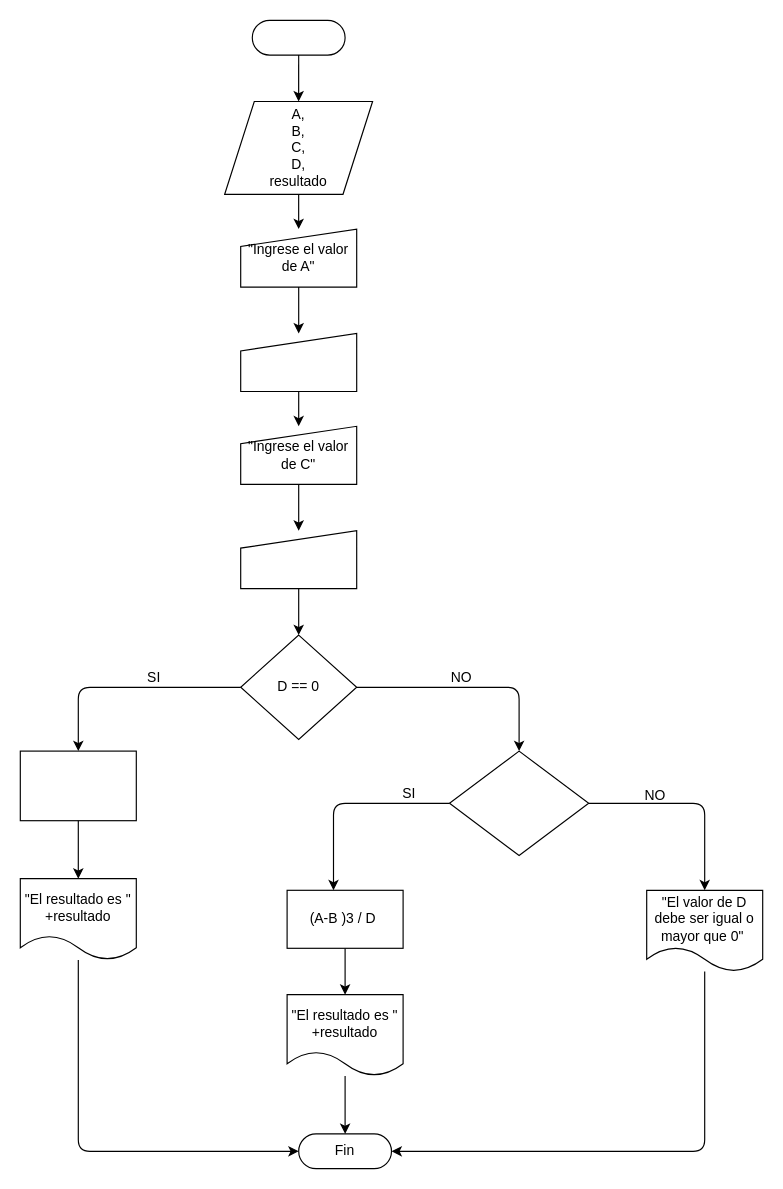
Some shapes in this 783 by 1189 pixel diagram are drawn without their labels. The shapes that lost their labels are listed below. From the top down, each one's centre as x and y in pixels, then its label:
(298,37): Inicio
(298,362): "Ingrese el valor de B "
(298,559): "Ingrese el valor de D"
(77,785): (A-C)2
(518,802): D > 0
